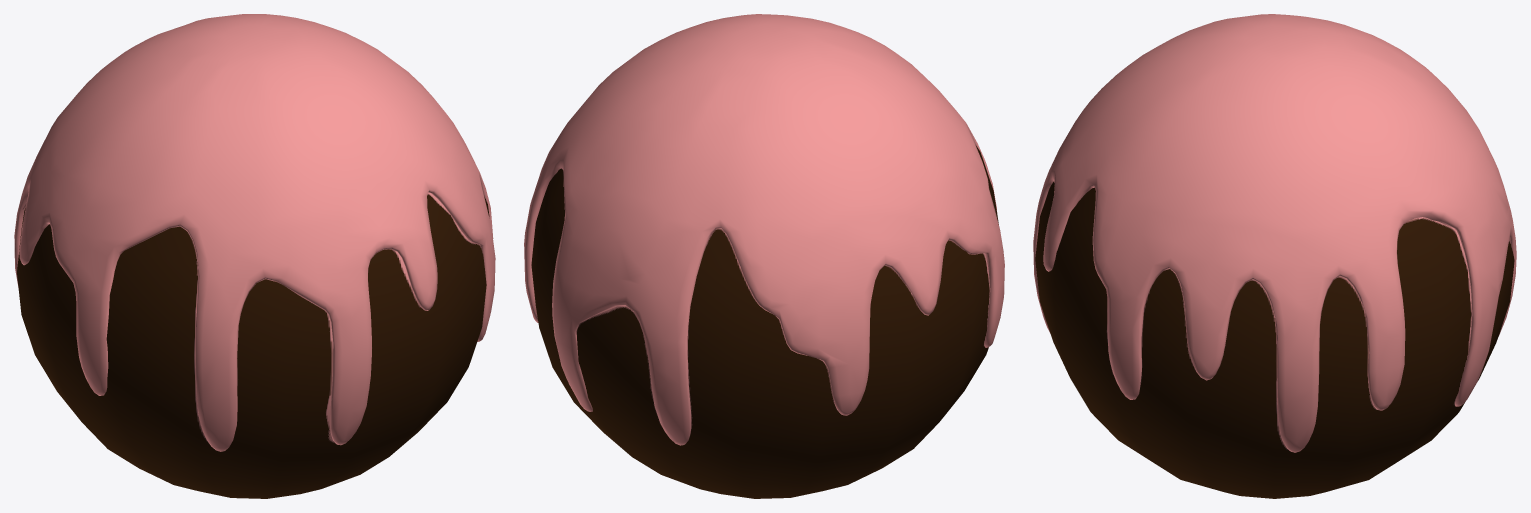
3 renders of one model, left to right at view 1: azimuth 30°, elevation 25°; view 2: azimuth 150°, elevation 25°; view 3: azimuth 270°, elevation 25°, orthographic.
Visible parts, largest first — view 1: Object_3; view 2: Object_3; view 3: Object_3.
Boxes of the visible parts, left/top/right/bottom form: Object_3: left=14, top=14, right=495, bottom=498; Object_3: left=524, top=14, right=1004, bottom=498; Object_3: left=1033, top=14, right=1516, bottom=498.
Size of the model in its own units: 2 by 2.02 by 2.01.
1 material, 1 textured.
